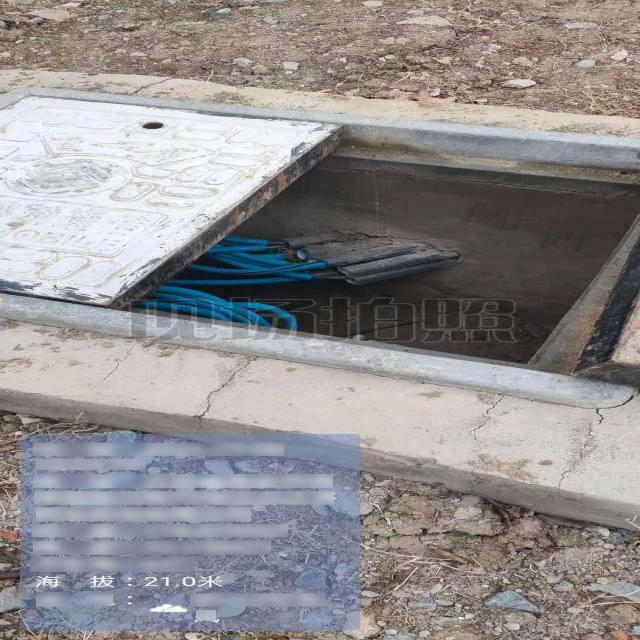Uncovered: (2, 87, 639, 403)
